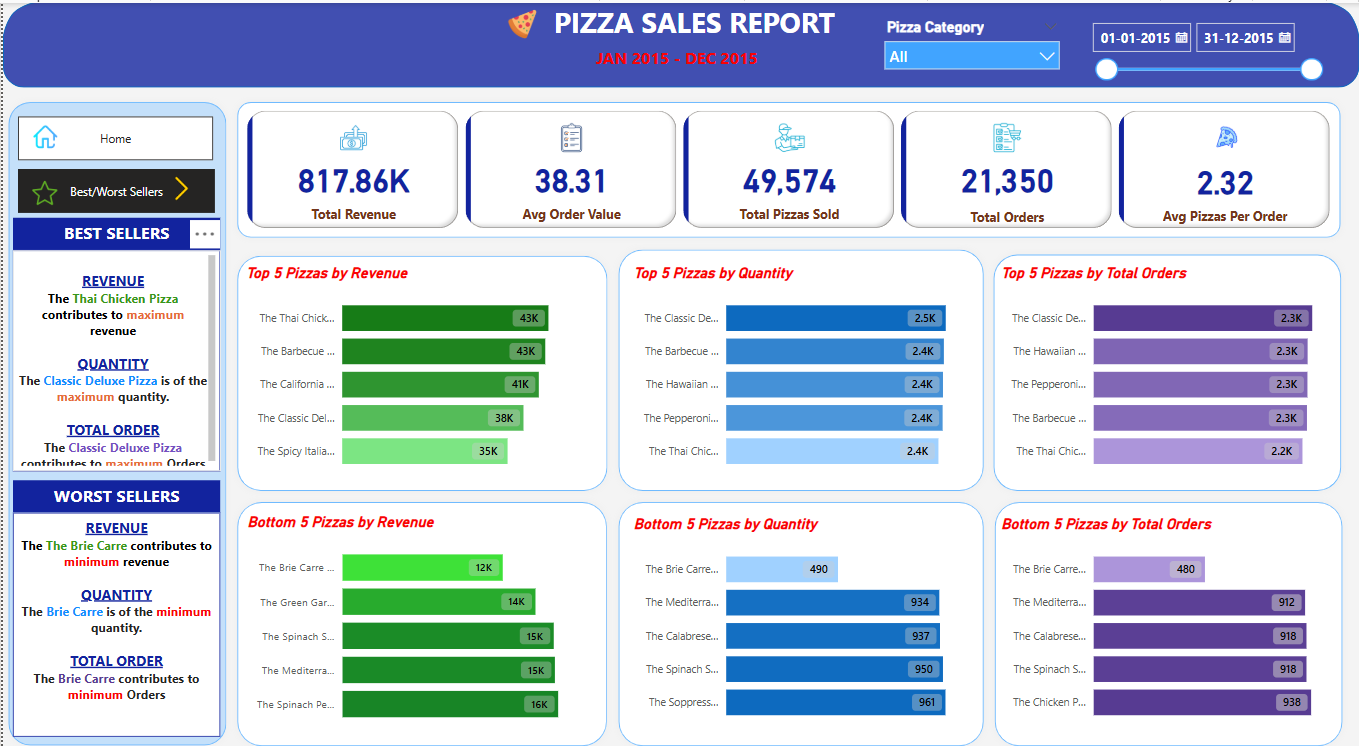

Layout of this report page (visuals, bound fields, positions):
{"tool":"powerbi","page":{"name":"Best/Worst Sellers","canvas":[1550,860],"ordinal":1},"visuals":[{"type":"shape","box":[261.8,111.8,1273.5,167.6],"z":0},{"type":"cardVisual","fields":{"Data":["pizza_sales.Total Revenue","pizza_sales.Avg Order Value","pizza_sales.Total Pizzas Sold","pizza_sales.Total Orders","pizza_sales.Avg Pizzas Per Order"]},"box":[274.3,122.9,1248.6,144.3],"z":1000},{"type":"shape","box":[0,3.4,1550,98.3],"z":2000},{"type":"textbox","box":[222.4,0,1134.5,194.8],"z":3000},{"type":"textbox","box":[522.4,50,494.8,36.2],"z":4000},{"type":"image","box":[567.2,6.9,53.4,43.1],"z":5000},{"type":"shape","box":[261.4,287.1,435.7,281.4],"z":6000},{"type":"shape","box":[697.1,280,430,288.6],"z":7000},{"type":"shape","box":[261.7,568.3,435,291.7],"z":8000},{"type":"shape","box":[0,111.8,261.8,748.5],"z":9000},{"type":"shape","box":[696.7,568.3,430,291.7],"z":10000},{"type":"shape","box":[1126.7,568.3,410,291.7],"z":11000},{"type":"textbox","box":[11.4,250,237.1,37.1],"z":12000},{"type":"textbox","box":[11.4,287.1,237.1,252.9],"z":13000},{"type":"textbox","box":[11.4,550,237.1,37.1],"z":14000},{"type":"textbox","box":[11.4,587.1,237.1,255.7],"z":15000},{"type":"slicer","fields":{"Values":["pizza_sales.pizza_category"]},"box":[997.1,17.6,220.6,94.1],"z":16000},{"type":"slicer","fields":{"Values":["pizza_sales.order_date"]},"box":[1232.4,17.6,283.8,79.4],"z":17000},{"type":"shape","box":[1125.7,285.7,410,282.9],"z":18000},{"type":"barChart","title":"Top 5 Pizzas by Revenue","fields":{"Y":["pizza_sales.Total Revenue"],"Category":["pizza_sales.pizza_name"]},"box":[272.9,302.9,407.1,250],"z":19000},{"type":"barChart","title":"Bottom 5 Pizzas by Revenue","fields":{"Y":["pizza_sales.Total Revenue"],"Category":["pizza_sales.pizza_name"]},"box":[274.3,587.1,405.7,255.7],"z":20000},{"type":"barChart","title":"Top 5 Pizzas by Quantity","fields":{"Category":["pizza_sales.pizza_name"],"Y":["pizza_sales.Total Pizzas Sold"]},"box":[715.7,302.9,391.4,250],"z":21000},{"type":"barChart","title":"Bottom 5 Pizzas by Quantity","fields":{"Category":["pizza_sales.pizza_name"],"Y":["pizza_sales.Total Pizzas Sold"]},"box":[715.7,590,391.4,250],"z":22000},{"type":"barChart","title":"Top 5 Pizzas by Total Orders","fields":{"Category":["pizza_sales.pizza_name"],"Y":["pizza_sales.Total Orders"]},"box":[1135.7,302.9,391.4,250],"z":23000},{"type":"barChart","title":"Bottom 5 Pizzas by Total Orders","fields":{"Category":["pizza_sales.pizza_name"],"Y":["pizza_sales.Total Orders"]},"box":[1135.7,590,391.4,250],"z":24000},{"type":"pageNavigator","box":[17.1,194.3,225.7,50],"z":25000},{"type":"pageNavigator","box":[17.1,134.3,223.4,50],"z":26000},{"type":"image","box":[185.7,195.7,37.1,41.4],"z":27000},{"type":"image","box":[30,134.3,37.1,45.7],"z":28000},{"type":"image","box":[28.6,200,38.6,42.9],"z":29000}]}

Visuals, with their boxes in screenshot pixels (x1, y1, x2, y2), scaled from the page's 1550x860 canvas onto the 1359x746 screenshot:
shape: <box>230,97,1346,242</box>
cardVisual - pizza_sales.Total Revenue x pizza_sales.Avg Order Value: <box>240,107,1335,232</box>
shape: <box>0,3,1358,88</box>
textbox: <box>195,0,1190,169</box>
textbox: <box>458,43,892,75</box>
image: <box>497,6,544,43</box>
shape: <box>229,249,611,493</box>
shape: <box>611,243,988,493</box>
shape: <box>229,493,611,745</box>
shape: <box>0,97,230,745</box>
shape: <box>611,493,988,745</box>
shape: <box>988,493,1347,745</box>
textbox: <box>10,217,218,249</box>
textbox: <box>10,249,218,468</box>
textbox: <box>10,477,218,509</box>
textbox: <box>10,509,218,731</box>
slicer - pizza_sales.pizza_category: <box>874,15,1068,97</box>
slicer - pizza_sales.order_date: <box>1081,15,1329,84</box>
shape: <box>987,248,1346,493</box>
"Top 5 Pizzas by Revenue" barChart: <box>239,263,596,480</box>
"Bottom 5 Pizzas by Revenue" barChart: <box>240,509,596,731</box>
"Top 5 Pizzas by Quantity" barChart: <box>628,263,971,480</box>
"Bottom 5 Pizzas by Quantity" barChart: <box>628,512,971,729</box>
"Top 5 Pizzas by Total Orders" barChart: <box>996,263,1339,480</box>
"Bottom 5 Pizzas by Total Orders" barChart: <box>996,512,1339,729</box>
pageNavigator: <box>15,169,213,212</box>
pageNavigator: <box>15,116,211,160</box>
image: <box>163,170,195,206</box>
image: <box>26,116,59,156</box>
image: <box>25,173,59,211</box>
